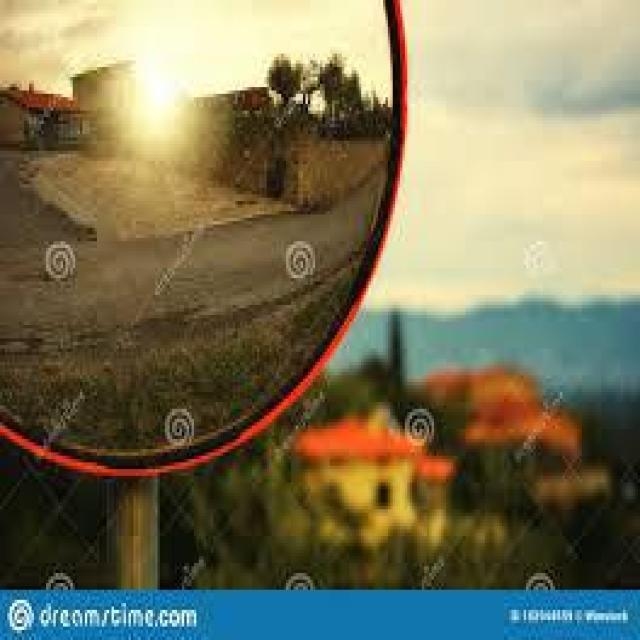other: (98, 26, 208, 148)
